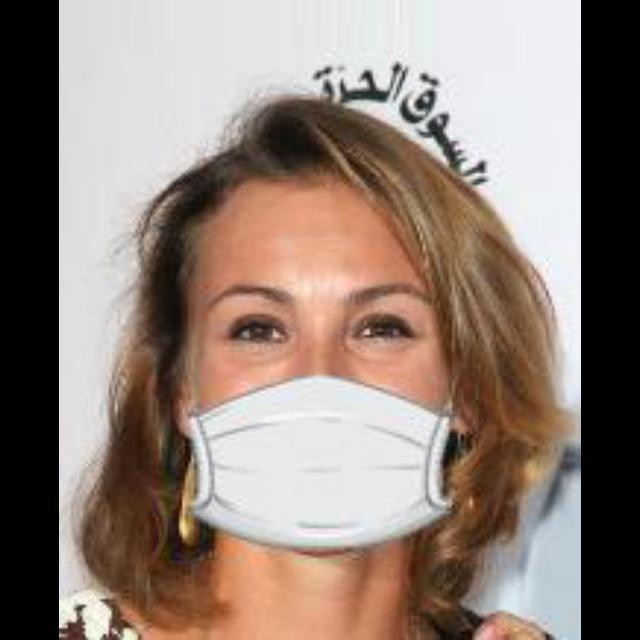suspicion: (120, 79, 468, 575)
